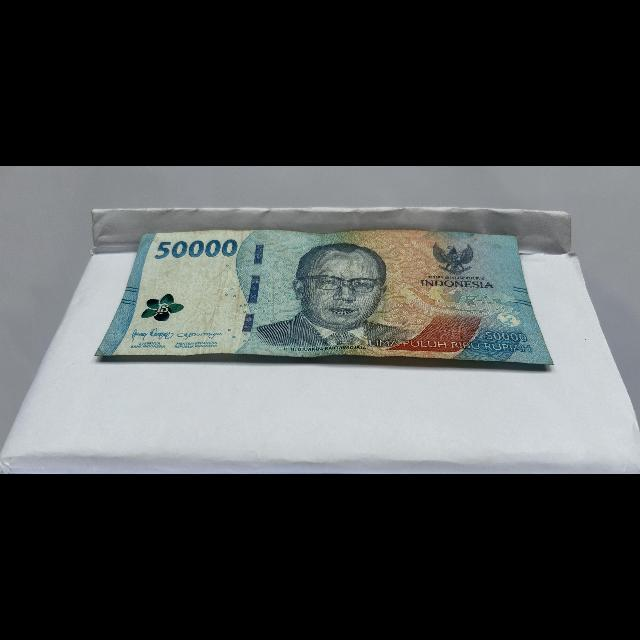Asli-50k: (91, 227, 558, 368)
Tinta-Asli-50k: (139, 292, 188, 324)
